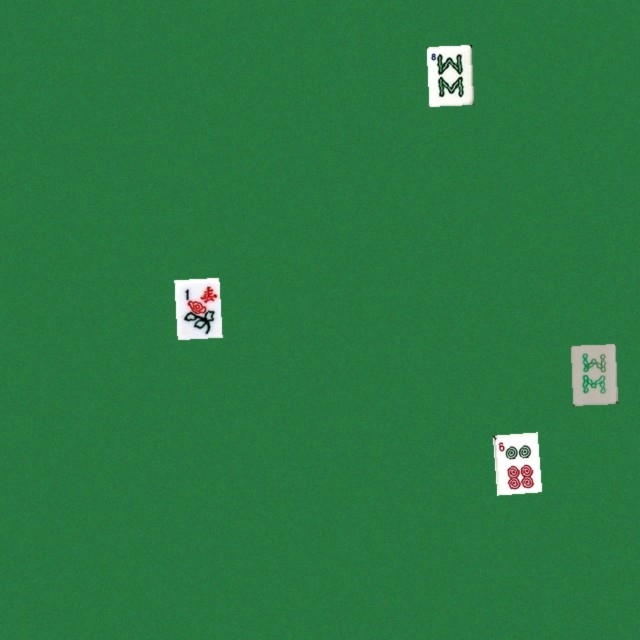tile: (426, 44, 471, 104), (492, 432, 537, 492), (174, 277, 219, 337), (570, 344, 615, 404)
